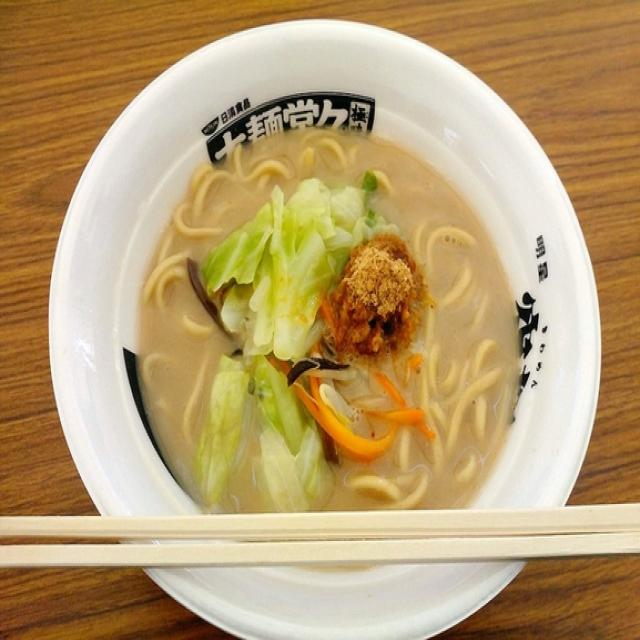面条主食: (48, 18, 606, 618)
